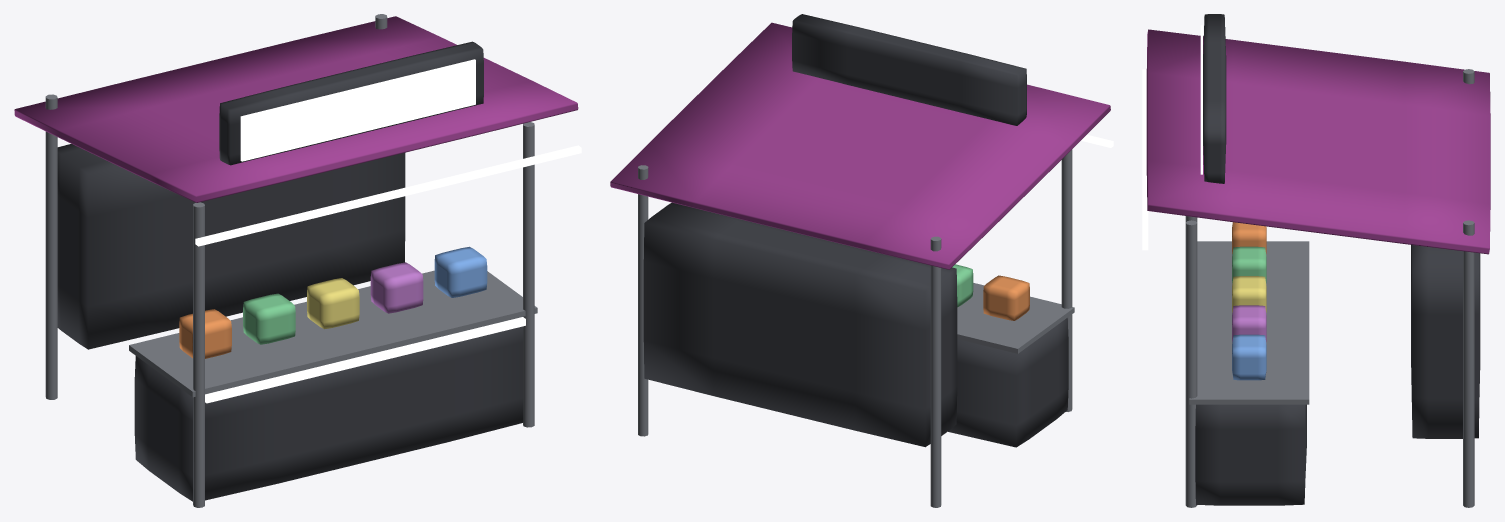
File: market_stall.glb
The picture shows the model from 3 angles, left to right: view 1: azimuth 30°, elevation 25°; view 2: azimuth 150°, elevation 25°; view 3: azimuth 270°, elevation 25°; orthographic projection. The views are drawn at different scales.
Parts seen in each view (by area): view 1: market_stall; view 2: market_stall; view 3: market_stall.
Boxes of the visible parts, x1,y1,x2,y2 form: market_stall: (14, 14, 581, 507); market_stall: (610, 14, 1113, 507); market_stall: (1142, 14, 1490, 507).
Size of the model in its own units: 3.6 by 3.42 by 3.01.
